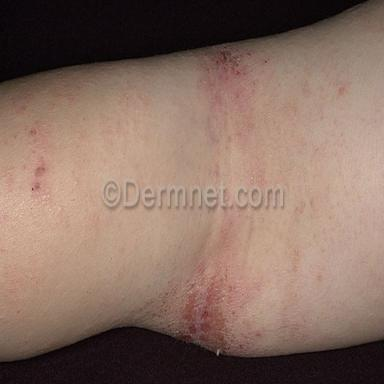eczema: (153, 261, 275, 356), (213, 47, 242, 81)
